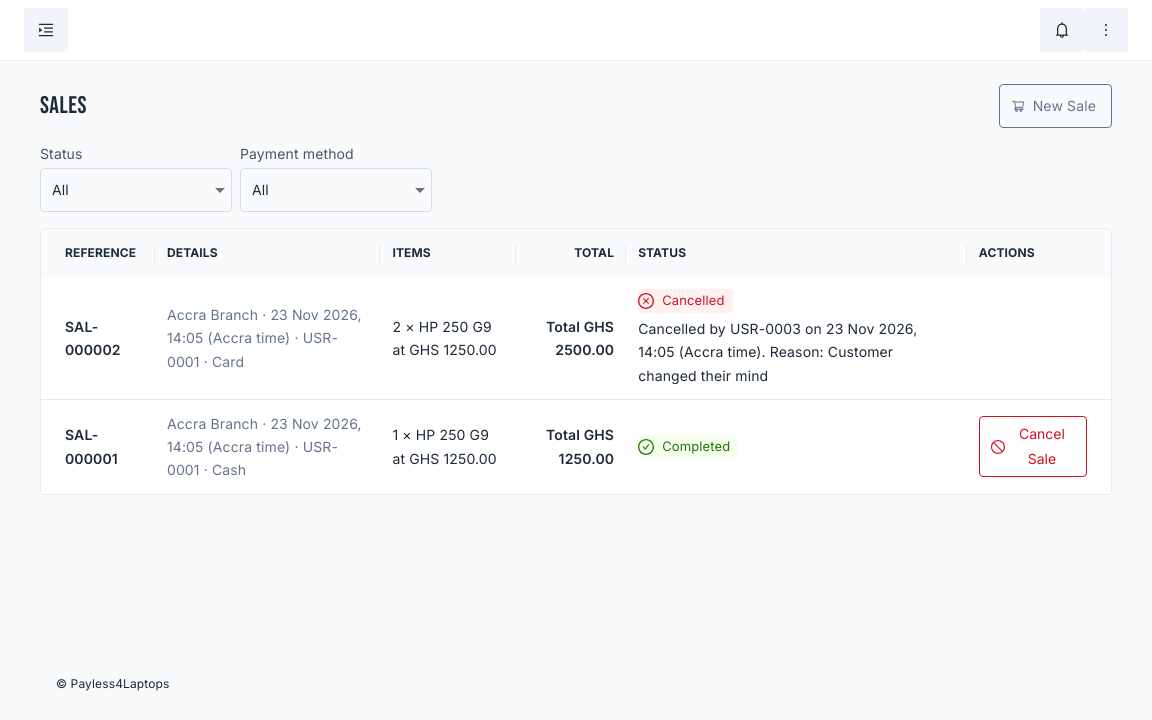
Test: FIX-41: cancelling a sale keeps focus and announces the result › after the confirm, focus is not lost and a status says which sale was cancelled
Expected: the cell "SAL-000001" is shown, [41, 400, 155, 494]
Click the button with aria-label "Cancel sale SAL-000001" at (1033, 447), box [979, 416, 1087, 477]
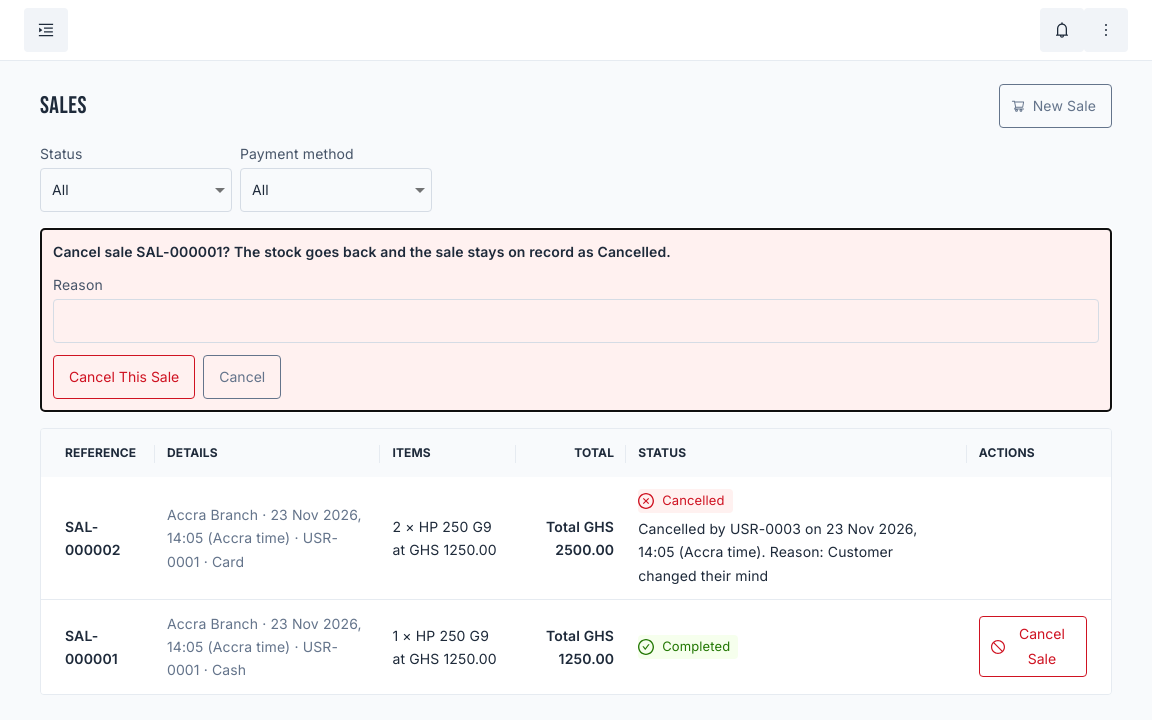
Type "Wrong item" into the field labelled "Reason" at (576, 321), box [53, 299, 1099, 343]
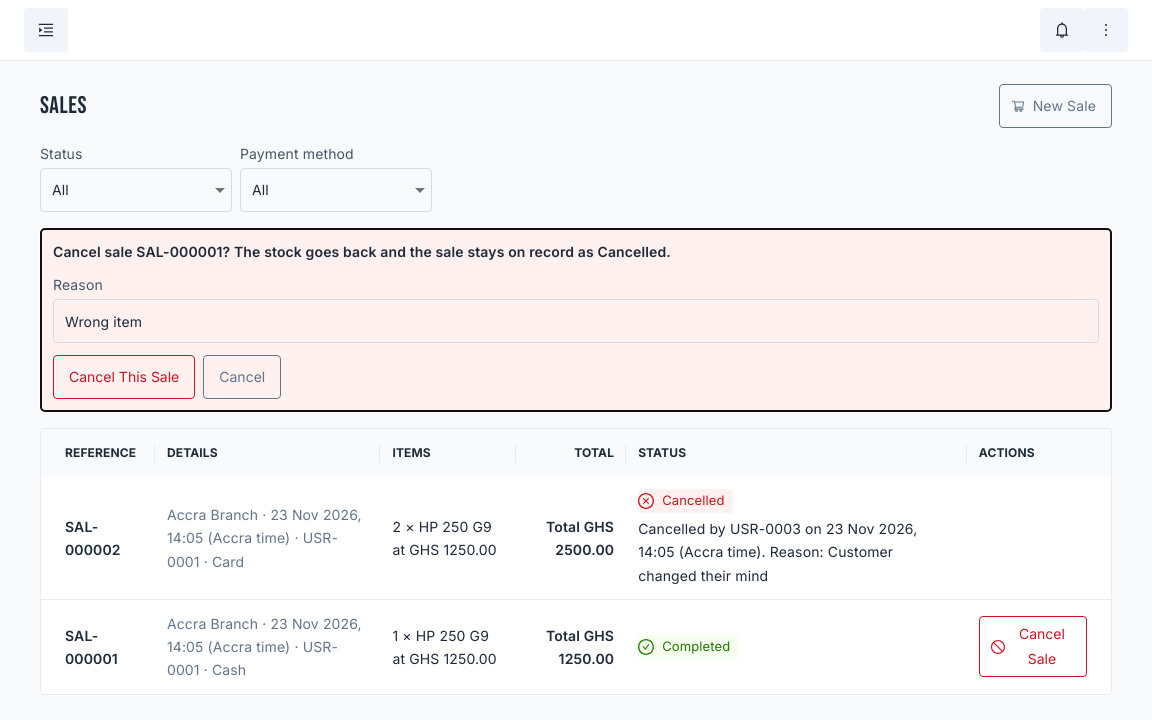
Click the button "Cancel this sale" at (124, 377), box [53, 355, 195, 399]
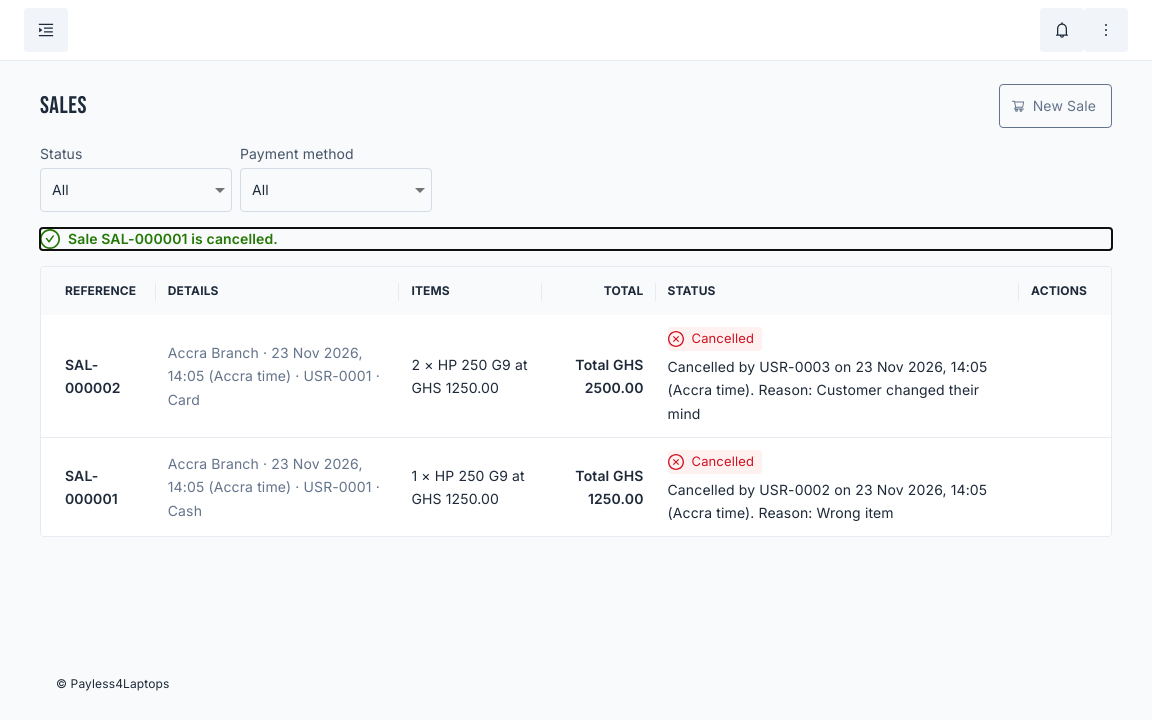
Expected: the text "Sale SAL-000001 is cancelled." is shown, [40, 229, 278, 249]
